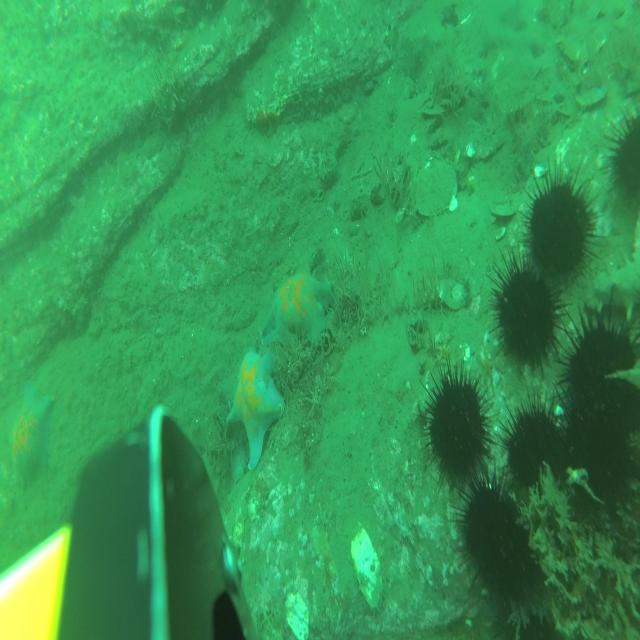echinus: (414, 356, 494, 500), (491, 248, 572, 381), (561, 293, 640, 420), (524, 159, 602, 287), (564, 389, 640, 512), (461, 477, 527, 594), (501, 389, 564, 508), (497, 562, 559, 640), (604, 104, 640, 219)
holothurian: (585, 211, 640, 322)
scallop: (413, 161, 458, 217), (438, 277, 466, 310)
starfish: (226, 348, 284, 472), (262, 271, 334, 357), (10, 374, 54, 487)
